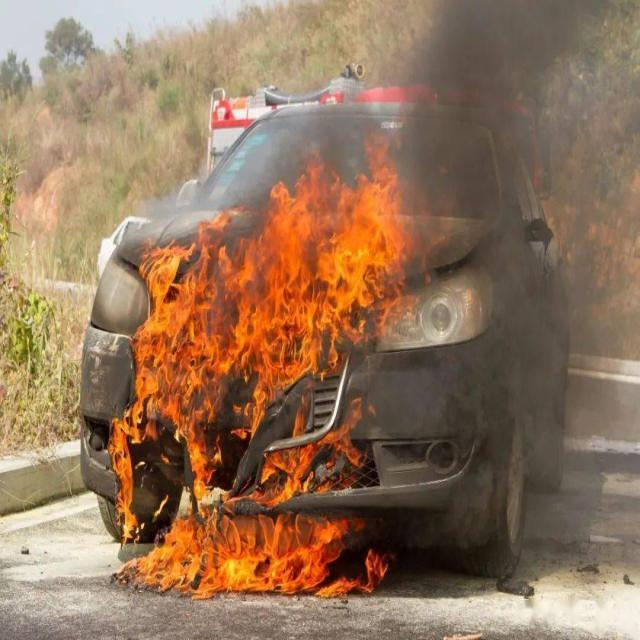fire: (109, 157, 409, 601)
